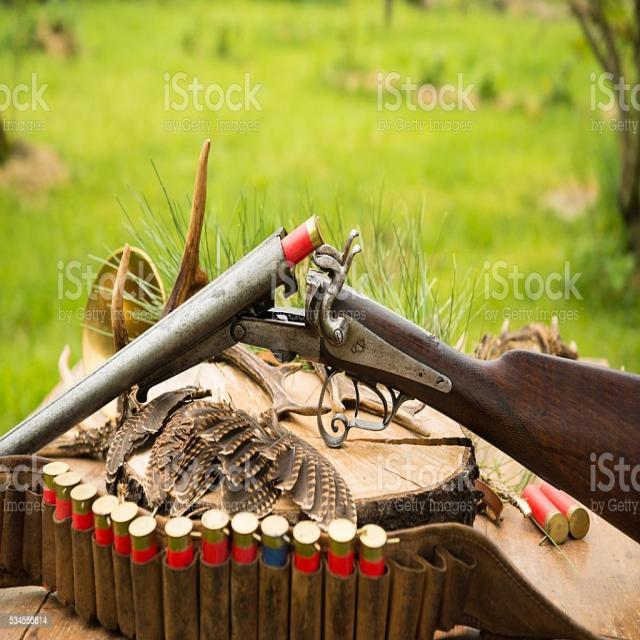shotgun: (0, 208, 640, 604)
